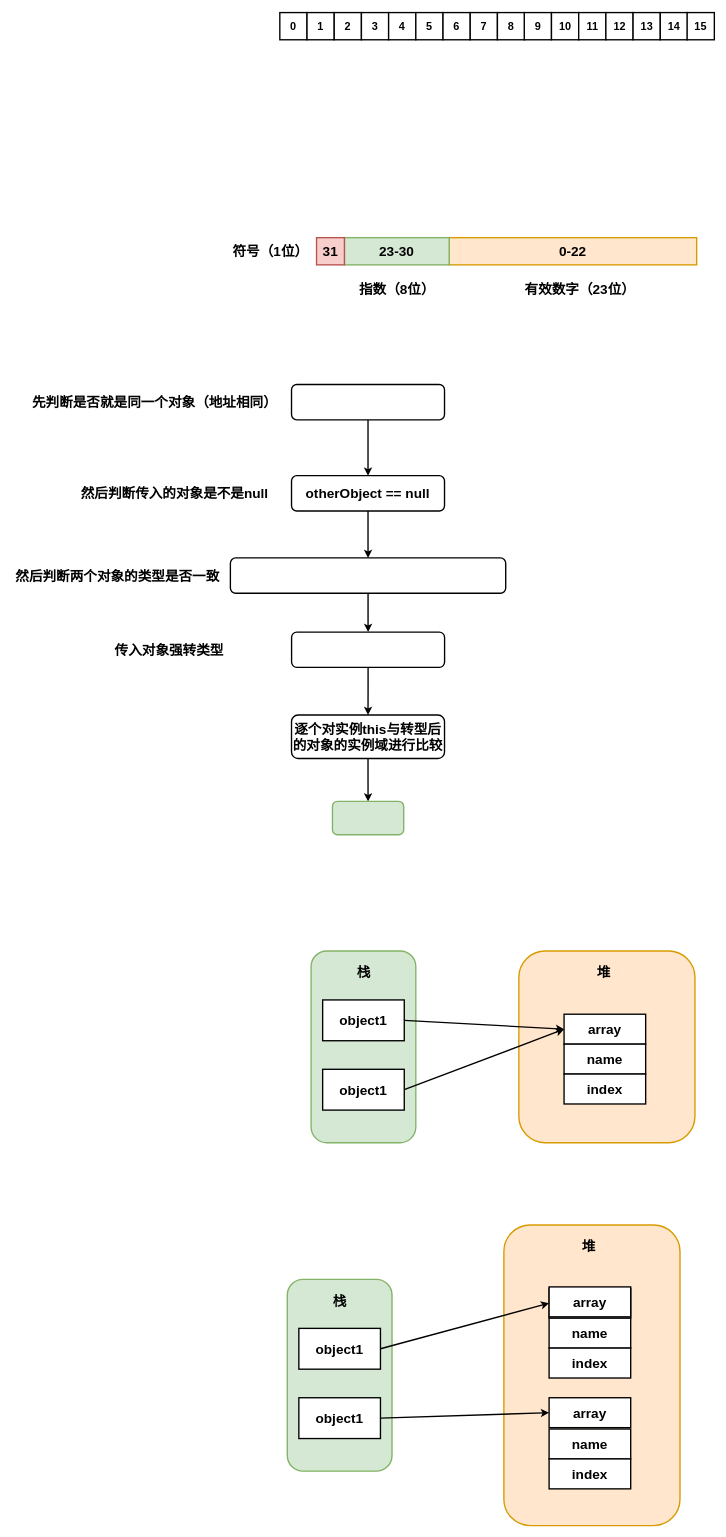
Some shapes in this 726 by 1537 pixel diagram are drawn without their labels. The centre of each missing label's shape, as x and y in pixels:
"this == otherObject" goes at (x=367, y=402).
"this.getClass() == otherObject.getClass()" goes at (x=367, y=575).
"true" goes at (x=367, y=817).
"将otherObject强制转型" goes at (x=368, y=649).
